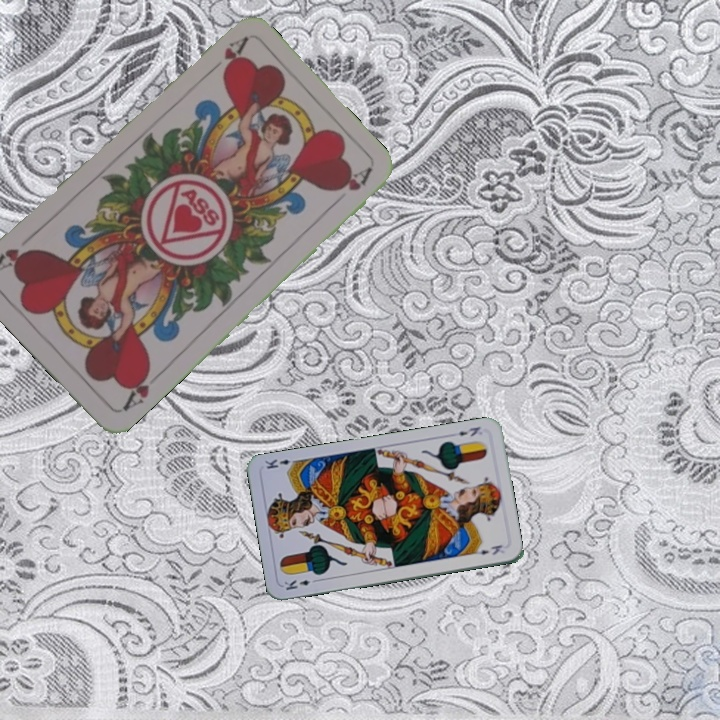EK: (280, 575, 321, 593), (447, 422, 483, 439)
HA: (116, 362, 164, 414), (201, 33, 250, 79)
